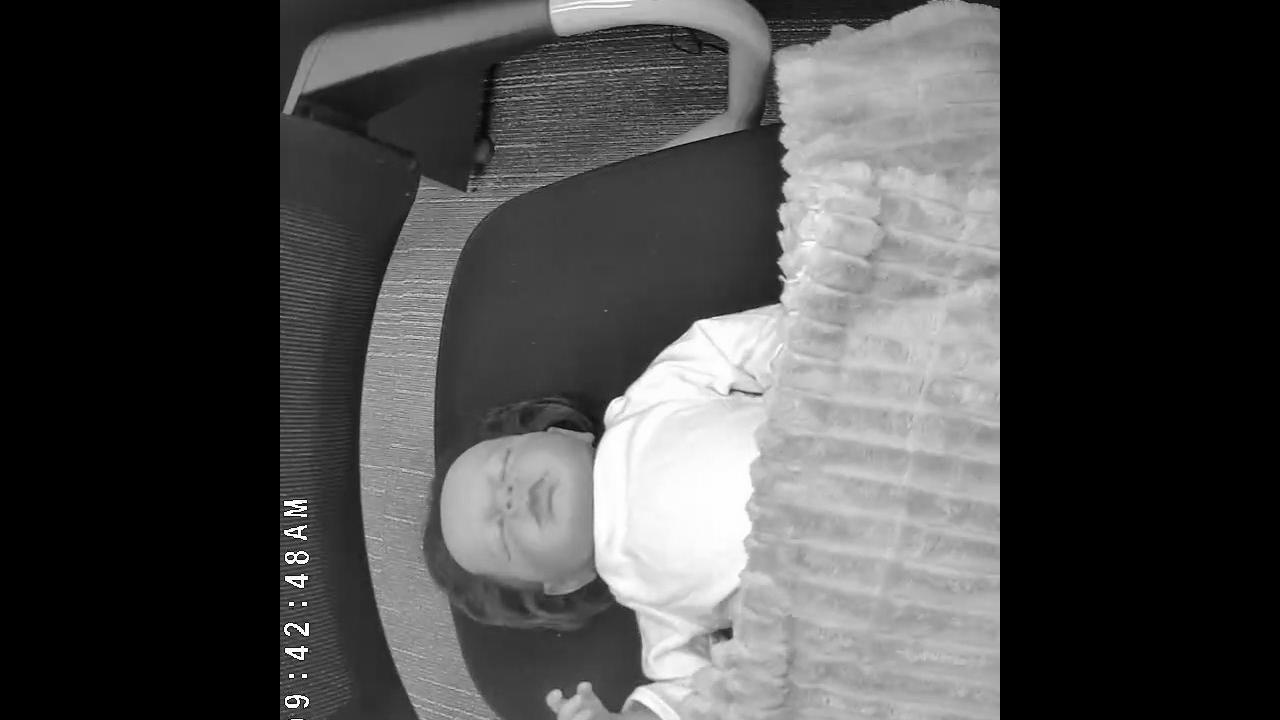hand: (543, 680, 623, 720)
